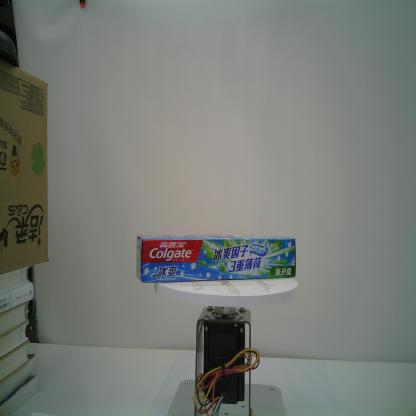Personal Hygiene: (135, 232, 298, 284)
